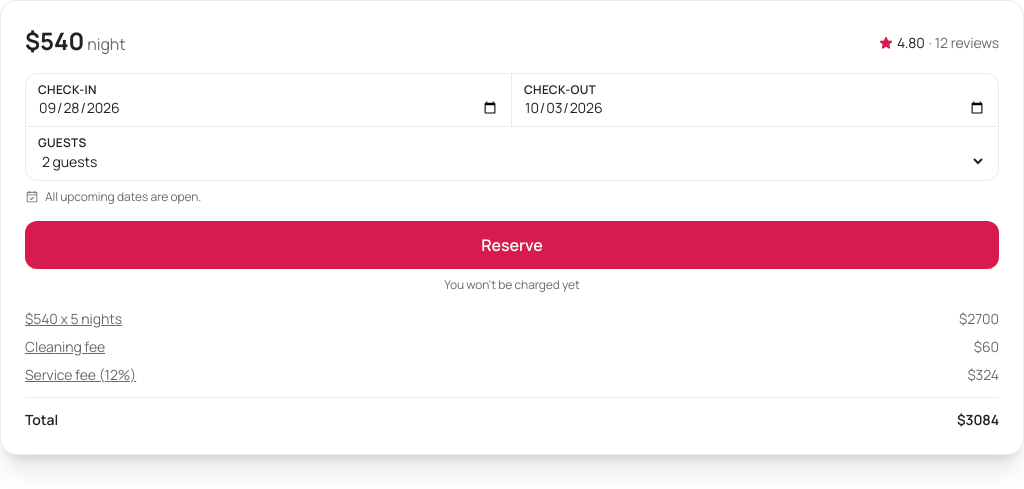
Test case: <BookingWidget /> › posts the booking with the device id and stores the confirmation locally
Click the button with test id "reserve" at (512, 245), box [25,221,999,269]
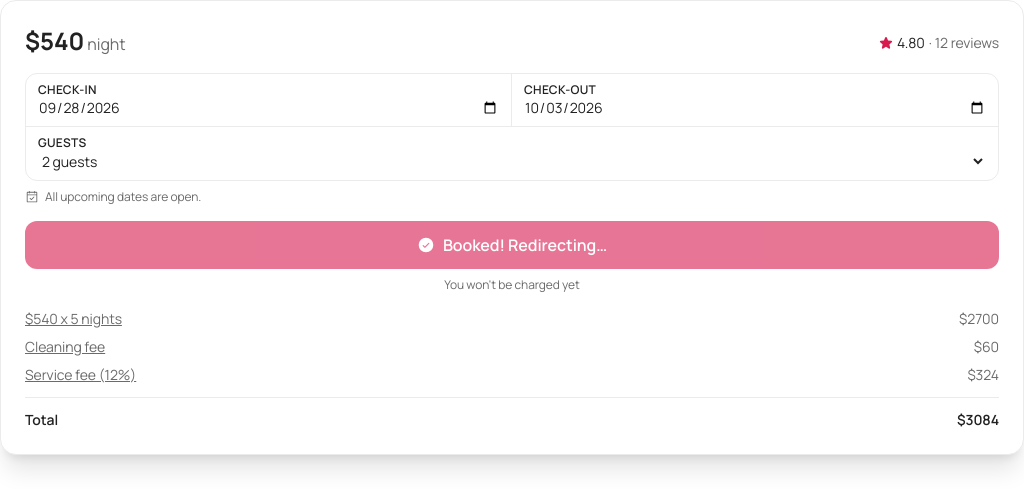
Result: the text "Booked! Redirecting…" is shown at [417,234,607,256]
